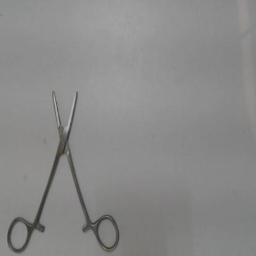Mayo Needle Holder: (4, 80, 124, 254)
